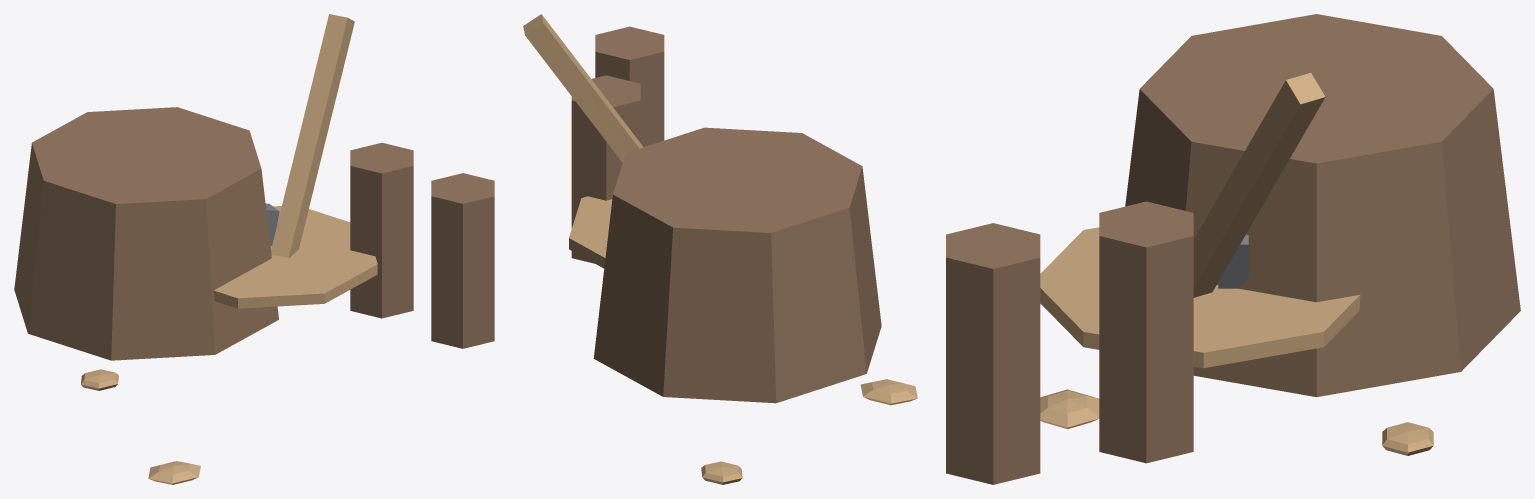
Rendered from town_stump_with_axe.glb.
The picture shows the model from 3 angles, left to right: view 1: azimuth 30°, elevation 25°; view 2: azimuth 150°, elevation 25°; view 3: azimuth 270°, elevation 25°; orthographic projection. The views are drawn at different scales.
Visible parts, largest first — view 1: world; view 2: world; view 3: world.
Boxes of the visible parts, x1=… form: world: x1=14, y1=14, x2=494, y2=484; world: x1=523, y1=14, x2=917, y2=484; world: x1=946, y1=14, x2=1520, y2=484.
Size of the model in its own units: 2 by 1.85 by 1.87.
